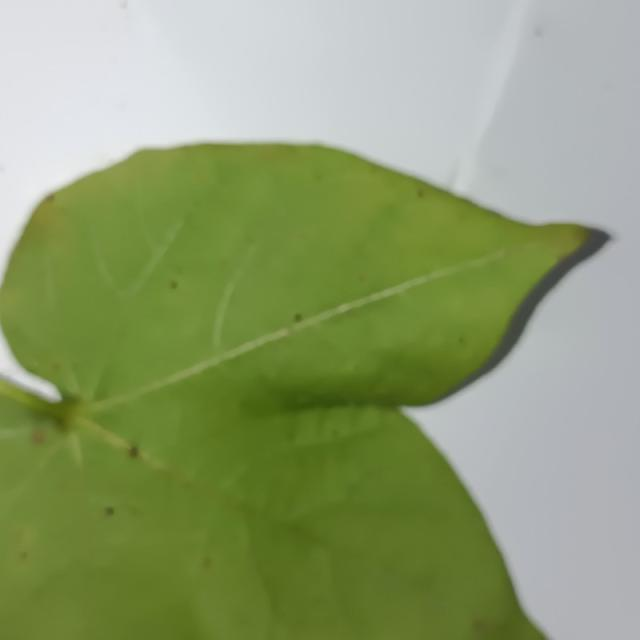Bacterial_Blight: (50, 392, 86, 428), (472, 616, 495, 633), (123, 446, 147, 460), (31, 426, 47, 445), (103, 505, 116, 517), (201, 557, 212, 569), (533, 26, 544, 38), (50, 361, 61, 372), (416, 188, 426, 199), (45, 193, 56, 203), (358, 274, 369, 284), (293, 314, 303, 323), (169, 280, 178, 290), (457, 335, 466, 345), (19, 551, 28, 561), (370, 166, 380, 175), (219, 259, 229, 268)
Cotton: (0, 144, 606, 639)
